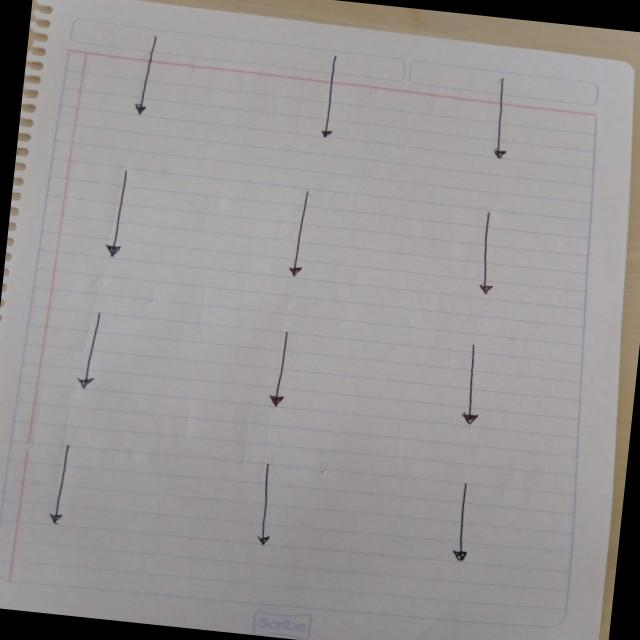arrow_line_down: (453, 340, 500, 429), (282, 186, 324, 283), (123, 29, 167, 120), (102, 161, 142, 261), (468, 208, 510, 299), (42, 436, 82, 530), (442, 476, 484, 564), (482, 74, 522, 166), (70, 304, 109, 396), (310, 53, 348, 144), (246, 460, 282, 550), (262, 328, 300, 408)
